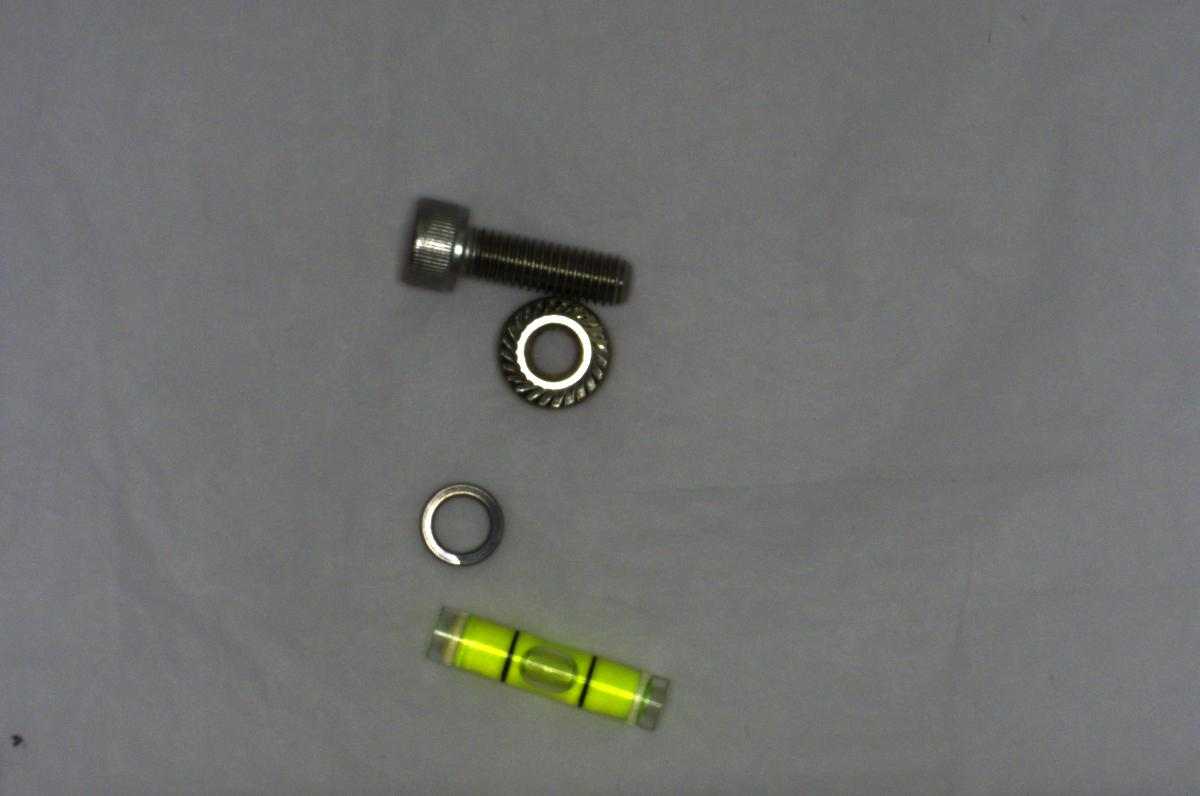Flange nut: (481, 295, 633, 415)
Hexagon screw: (401, 189, 633, 305)
Horizontal bubble: (418, 596, 674, 730)
Spring washer: (413, 474, 510, 574)
